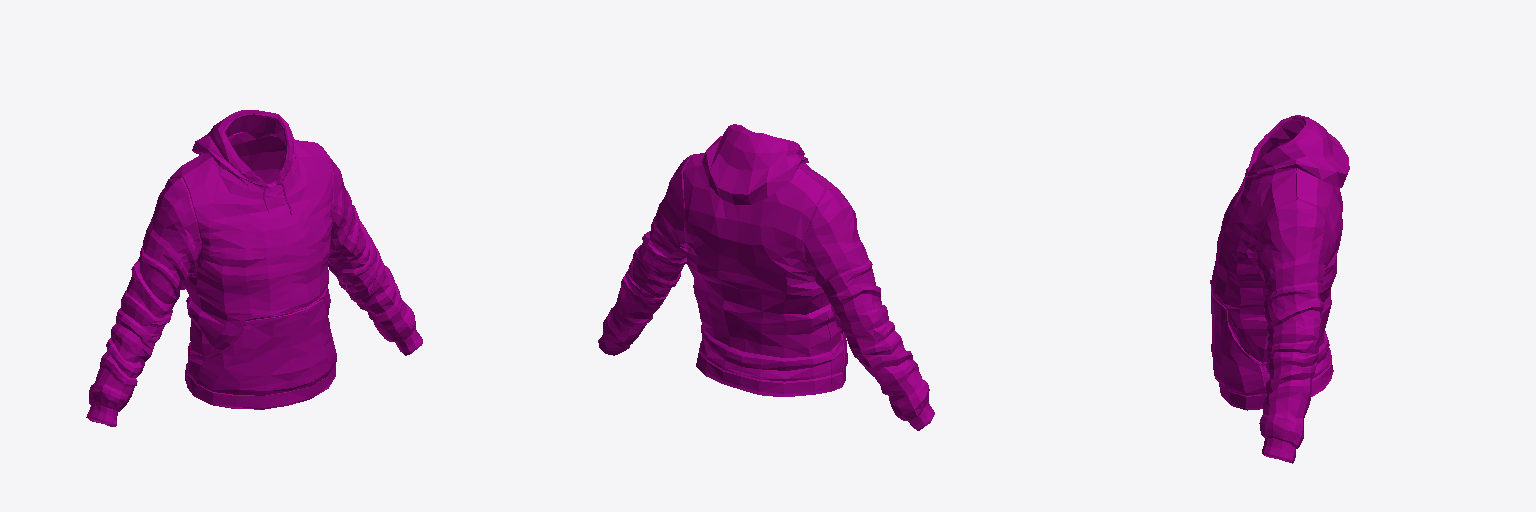
Rendered from pink-hoodie.obj.
3 views of the same model, side by side, from view 1: azimuth 30°, elevation 25°; view 2: azimuth 150°, elevation 25°; view 3: azimuth 270°, elevation 25° (orthographic).
Bounding box in the file's own units: 25.82 × 19.83 × 9.36.